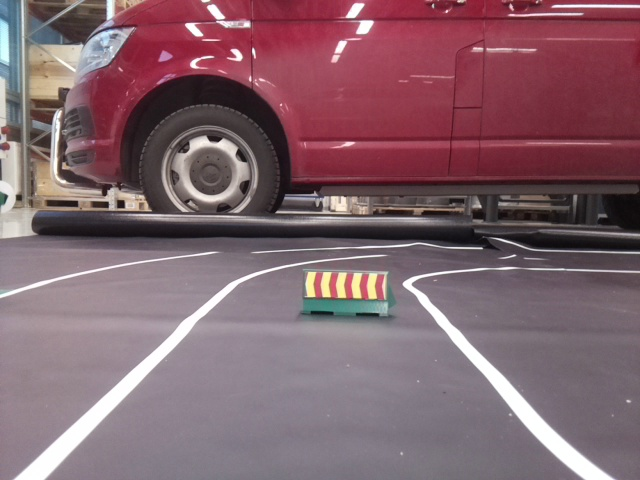ClosedRoadStand: (302, 268, 387, 316)
